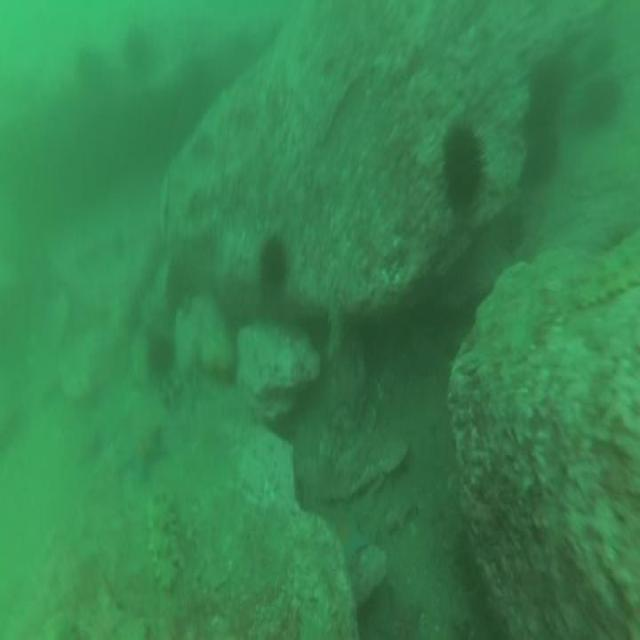echinus: (436, 120, 486, 221), (516, 115, 562, 193), (585, 71, 623, 131), (526, 66, 562, 125), (257, 231, 291, 292), (121, 31, 155, 80), (144, 327, 180, 373)
holothurian: (568, 246, 640, 313), (146, 491, 188, 596)
starfish: (118, 422, 166, 479)
